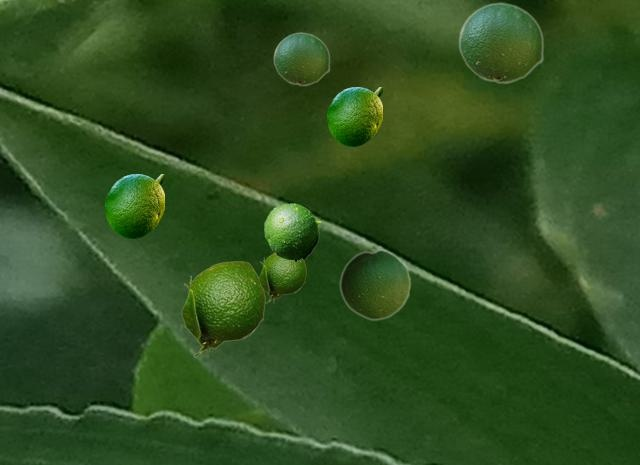dalandan: (180, 261, 264, 356), (458, 2, 543, 83), (339, 248, 410, 320), (105, 174, 163, 237), (264, 203, 320, 261), (327, 87, 381, 145), (273, 32, 329, 85), (258, 253, 305, 302)
